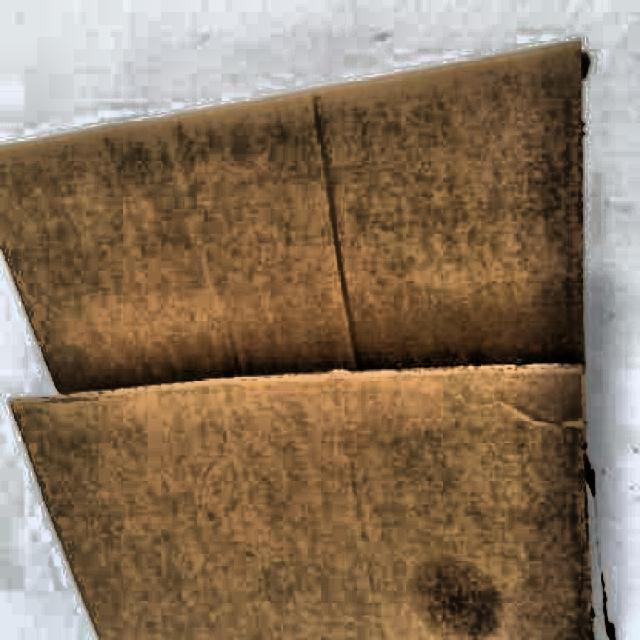Cardbox: (0, 29, 603, 638)
